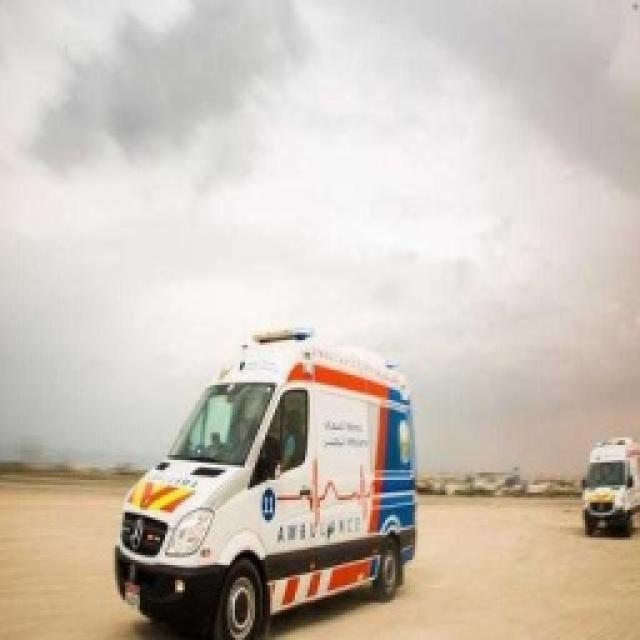emergency-vehicle: (105, 322, 440, 640)
